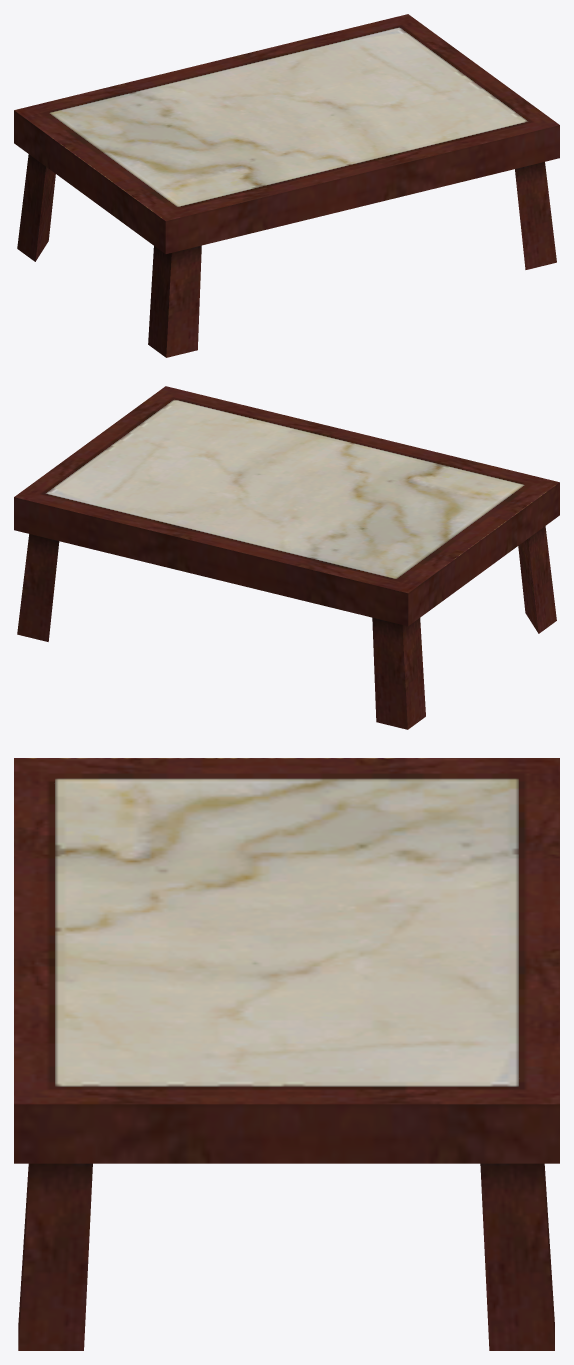
File: it_interior_low_table.fbx
3 renders of one model, top to bottom at view 1: azimuth 30°, elevation 25°; view 2: azimuth 150°, elevation 25°; view 3: azimuth 270°, elevation 25°, orthographic. The views are drawn at different scales.
Visible parts, largest first — view 1: mesh_0; view 2: mesh_0; view 3: mesh_0.
Part boxes in pixels (x1=…): mesh_0: x1=14, y1=14, x2=559, y2=357; mesh_0: x1=14, y1=386, x2=559, y2=729; mesh_0: x1=14, y1=758, x2=559, y2=1350.
Bounding box in the file's own units: 150 × 50.16 × 100.
Materials: 1 (1 with a texture image).
